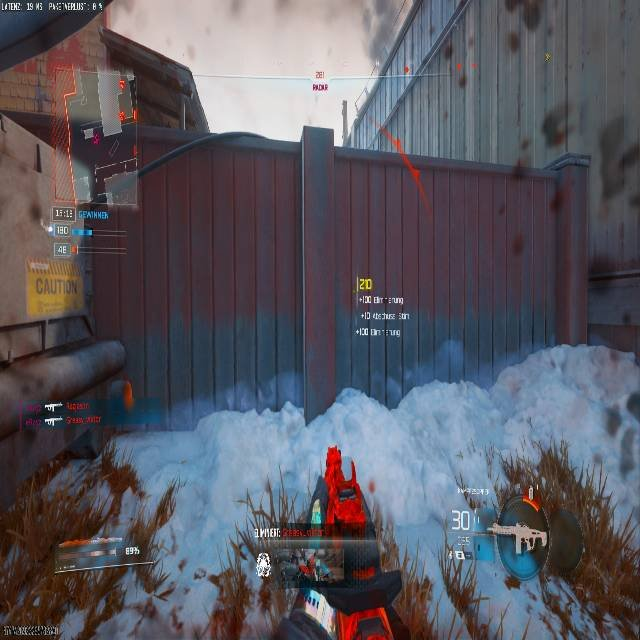head: (542, 511, 588, 577)
